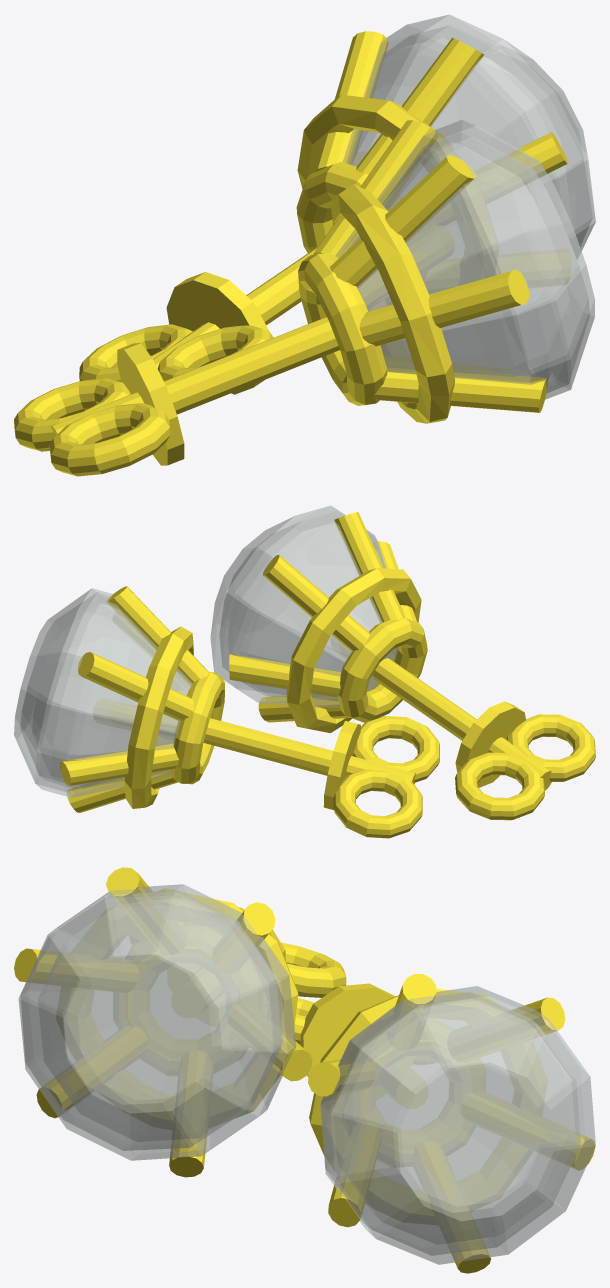
Rendered from Diamond Stud Earrings.glb.
The picture shows the model from 3 angles, top to bottom: view 1: azimuth 30°, elevation 25°; view 2: azimuth 150°, elevation 25°; view 3: azimuth 270°, elevation 25°; orthographic projection. The views are drawn at different scales.
Parts seen in each view (by area): view 1: Node; view 2: Node; view 3: Node.
Boxes of the visible parts, left/top/right/bottom form: Node: left=14, top=14, right=595, bottom=476; Node: left=14, top=505, right=595, bottom=838; Node: left=14, top=867, right=595, bottom=1273.
Bounding box in the file's own units: 0.405 × 0.1997 × 0.3336.
